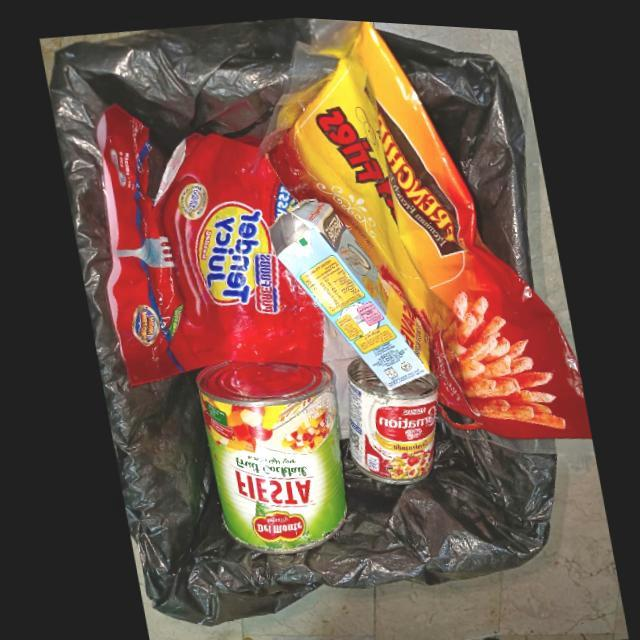aluminum: (193, 357, 343, 550), (343, 353, 436, 479)
food_wrapper: (259, 14, 591, 449), (92, 100, 323, 385)
